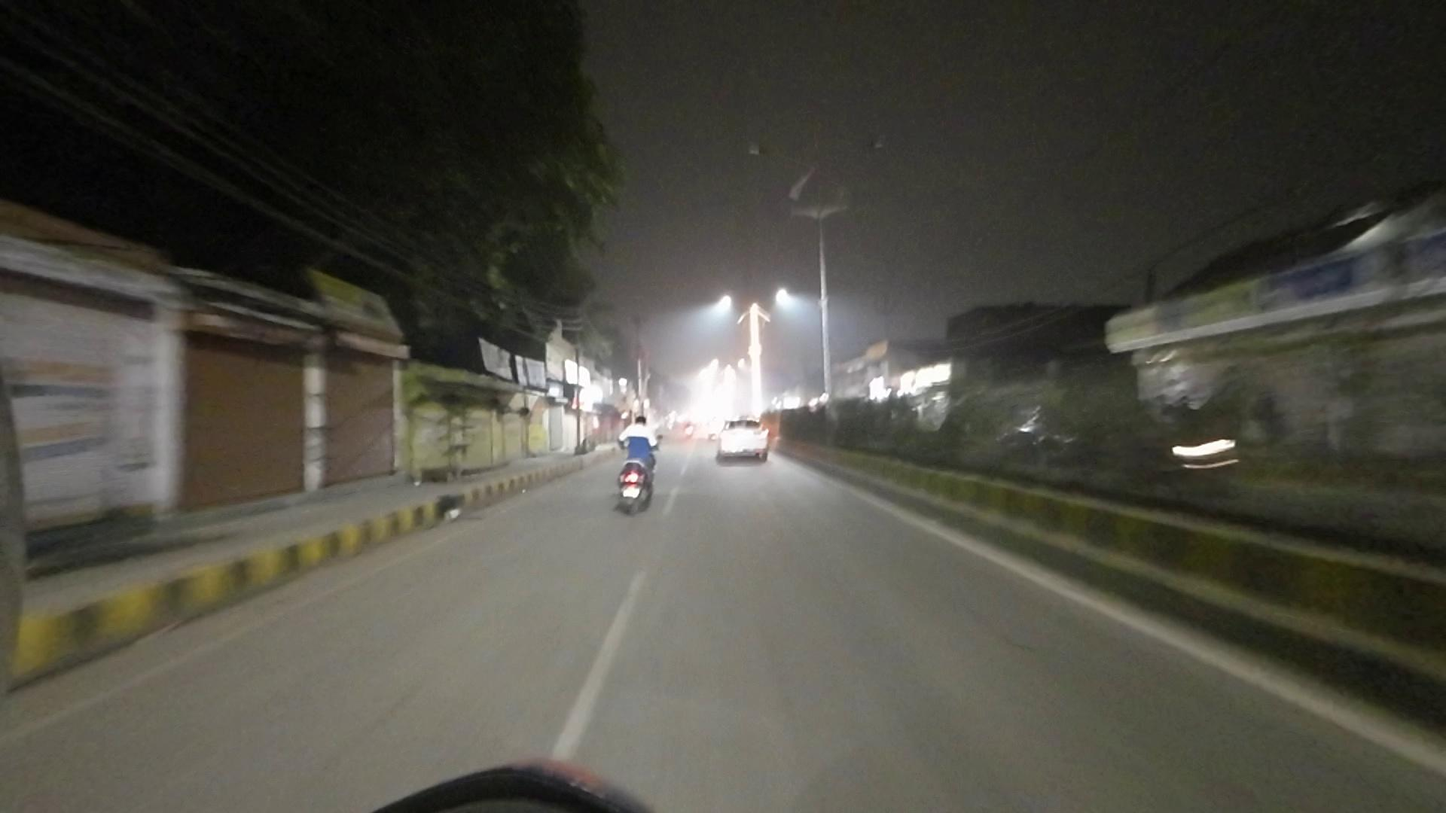streetlight: (822, 134, 887, 160), (747, 141, 806, 169)
